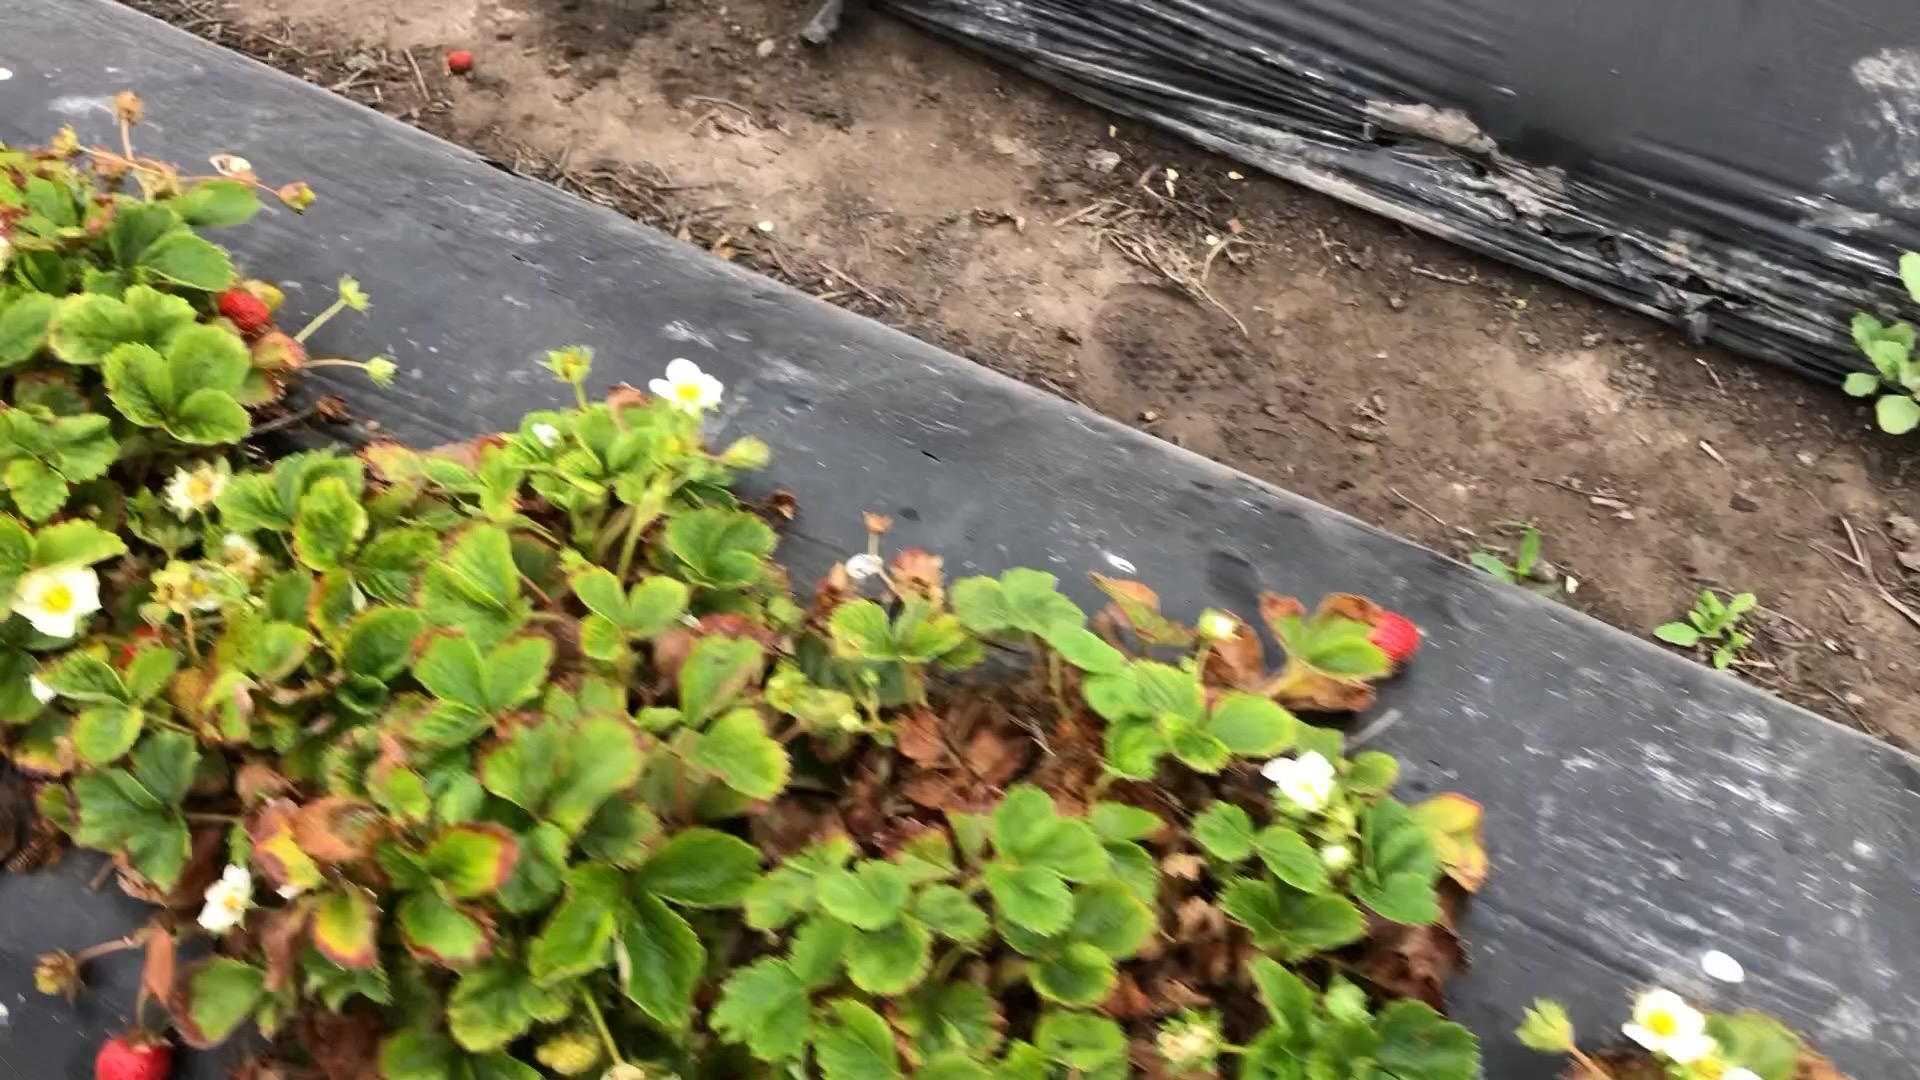ripe_strawberry: (1357, 605, 1425, 670), (91, 1029, 175, 1080), (216, 287, 273, 334)
